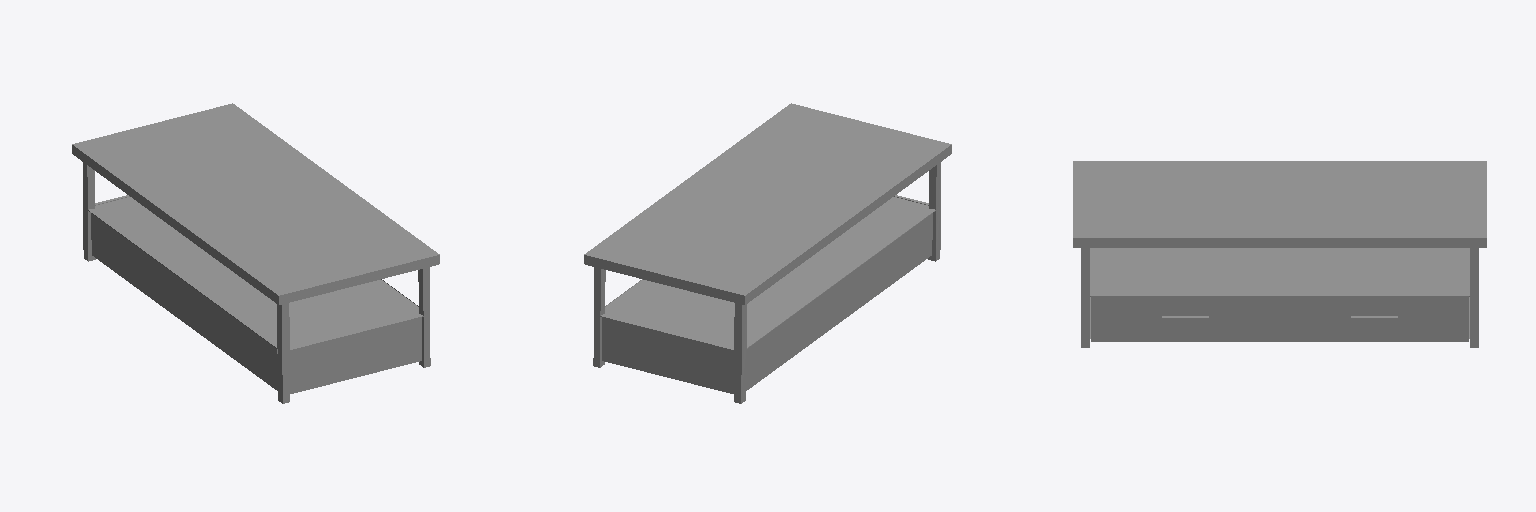
The model's file is coffeetable.obj.
3 views of the same model, side by side, from view 1: azimuth 30°, elevation 25°; view 2: azimuth 150°, elevation 25°; view 3: azimuth 270°, elevation 25° (orthographic).
Visible parts, largest first — view 1: Cube; view 2: Cube; view 3: Cube.
Boxes of the visible parts, x1=… form: Cube: x1=72, y1=103, x2=439, y2=403; Cube: x1=584, y1=103, x2=951, y2=403; Cube: x1=1073, y1=161, x2=1486, y2=347.
Size of the model in its own units: 1.21 by 0.8216 by 2.69.